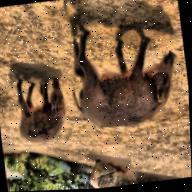boar: (56, 11, 191, 153)
